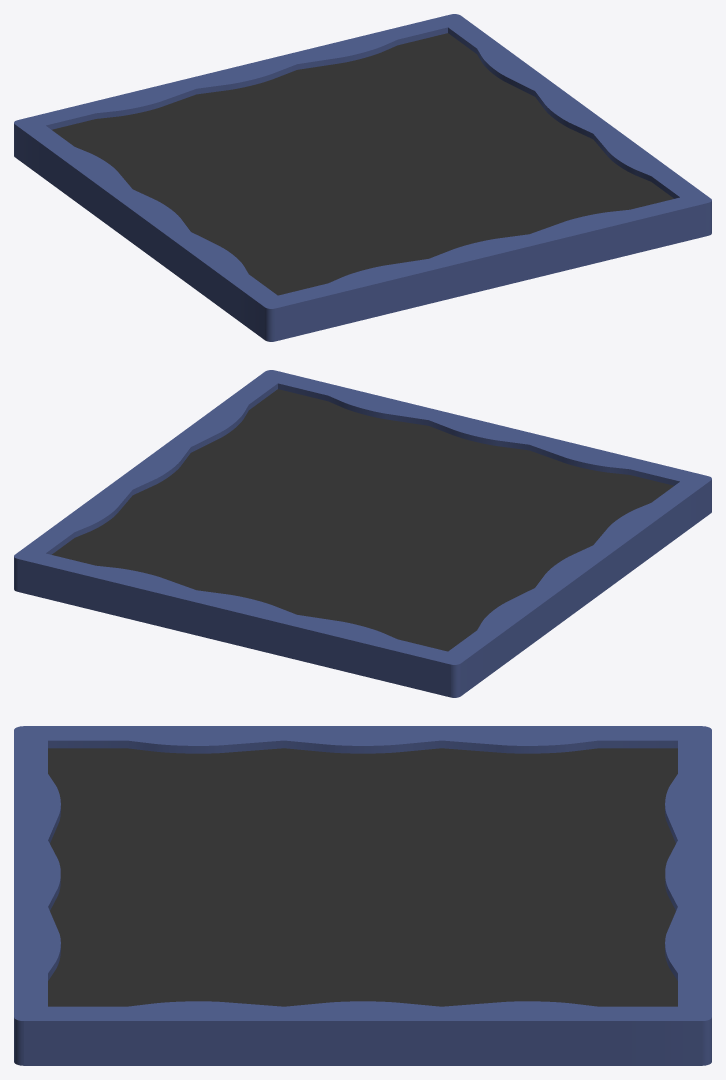
File: Blue.fbx
3 views of the same model, one above another, from view 1: azimuth 30°, elevation 25°; view 2: azimuth 150°, elevation 25°; view 3: azimuth 270°, elevation 25° (orthographic). The views are drawn at different scales.
Visible parts, largest first — view 1: t1.003, Cube.039, Cube.040, Cube.041, Cube.038; view 2: t1.003, Cube.041, Cube.040, Cube.039, Cube.038; view 3: t1.003, Cube.038, Cube.040, Cube.039, Cube.041.
Boxes of the visible parts, x1,y1,x2,y2 form: t1.003: (52, 33, 673, 295); Cube.039: (271, 197, 711, 341); Cube.040: (14, 120, 277, 341); Cube.041: (17, 14, 454, 129); Cube.038: (448, 14, 710, 200); t1.003: (52, 389, 673, 651); Cube.041: (17, 553, 454, 697); Cube.040: (448, 476, 711, 697); Cube.039: (265, 370, 708, 485); Cube.038: (14, 371, 277, 591); t1.003: (48, 748, 677, 1006); Cube.038: (21, 1001, 711, 1065); Cube.040: (14, 726, 711, 753); Cube.039: (14, 729, 60, 1065); Cube.041: (665, 729, 711, 1017).
Bounding box in the file's own units: 355 × 25.13 × 355.
